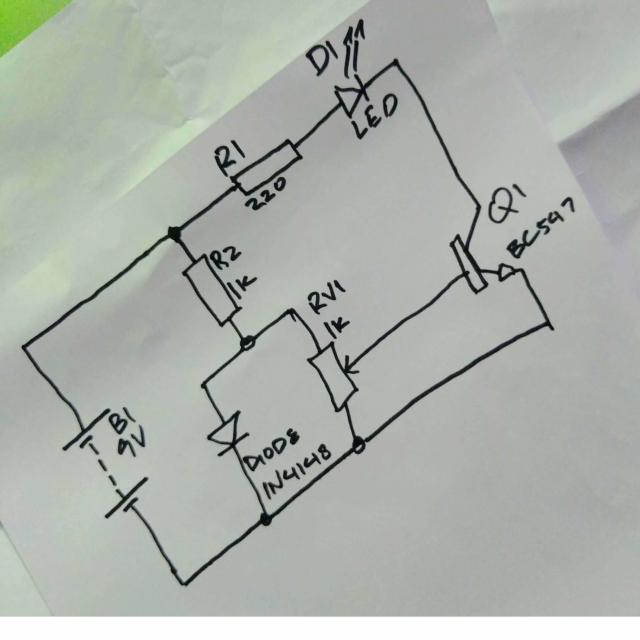diode: (332, 17, 371, 120), (205, 408, 250, 457)
junction: (238, 332, 256, 353), (165, 224, 182, 244), (350, 435, 367, 455), (258, 510, 272, 527), (18, 341, 31, 356), (178, 578, 190, 592), (390, 55, 402, 68), (516, 264, 528, 277), (285, 304, 297, 316), (473, 201, 485, 213), (541, 315, 552, 328), (198, 379, 209, 391)
resistor: (182, 252, 243, 328), (228, 137, 304, 198), (306, 339, 361, 413)
source: (60, 405, 112, 455), (104, 475, 150, 523)
text: (505, 193, 577, 261), (261, 442, 332, 501), (241, 426, 300, 473), (350, 91, 399, 141), (243, 175, 288, 211), (487, 182, 527, 222), (306, 278, 346, 316), (304, 39, 339, 77), (213, 138, 246, 177), (117, 423, 147, 459), (106, 404, 136, 434), (226, 273, 259, 300), (209, 244, 242, 270), (322, 316, 350, 339)
transistor: (448, 223, 516, 296)
